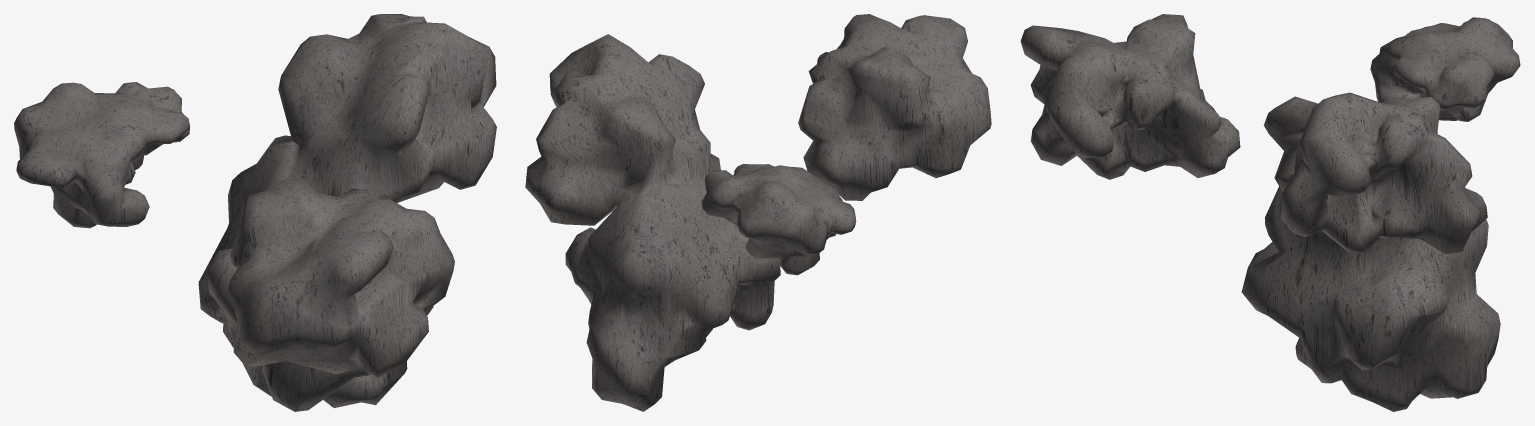
File: Rocks.fbx
3 renders of one model, left to right at view 1: azimuth 30°, elevation 25°; view 2: azimuth 150°, elevation 25°; view 3: azimuth 270°, elevation 25°, orthographic. The views are drawn at different scales.
Visible parts, largest first — view 1: Rock.001, Rock.002, Rock; view 2: Rock.001, Rock.002, Rock; view 3: Rock.001, Rock.002, Rock.
Part boxes in pixels (x1,y1,x2,y2): Rock.001: (198,14,496,411); Rock.002: (228,178,454,377); Rock: (14,82,189,228); Rock.001: (525,34,780,411); Rock.002: (798,14,991,200); Rock: (701,164,856,275); Rock.001: (1241,92,1500,411); Rock.002: (1020,14,1240,179); Rock: (1370,17,1520,121).
Size of the model in its own units: 10925 by 9573 by 12605.
